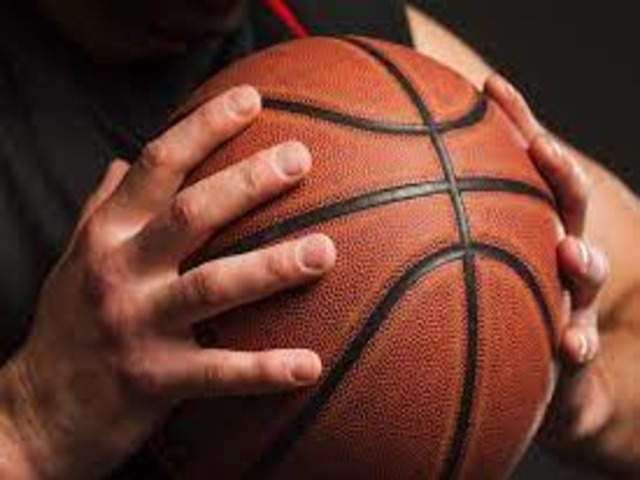Bola: (141, 32, 566, 476)
